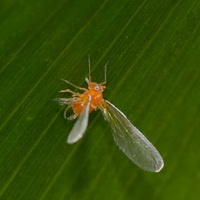insect: (56, 55, 163, 171)
